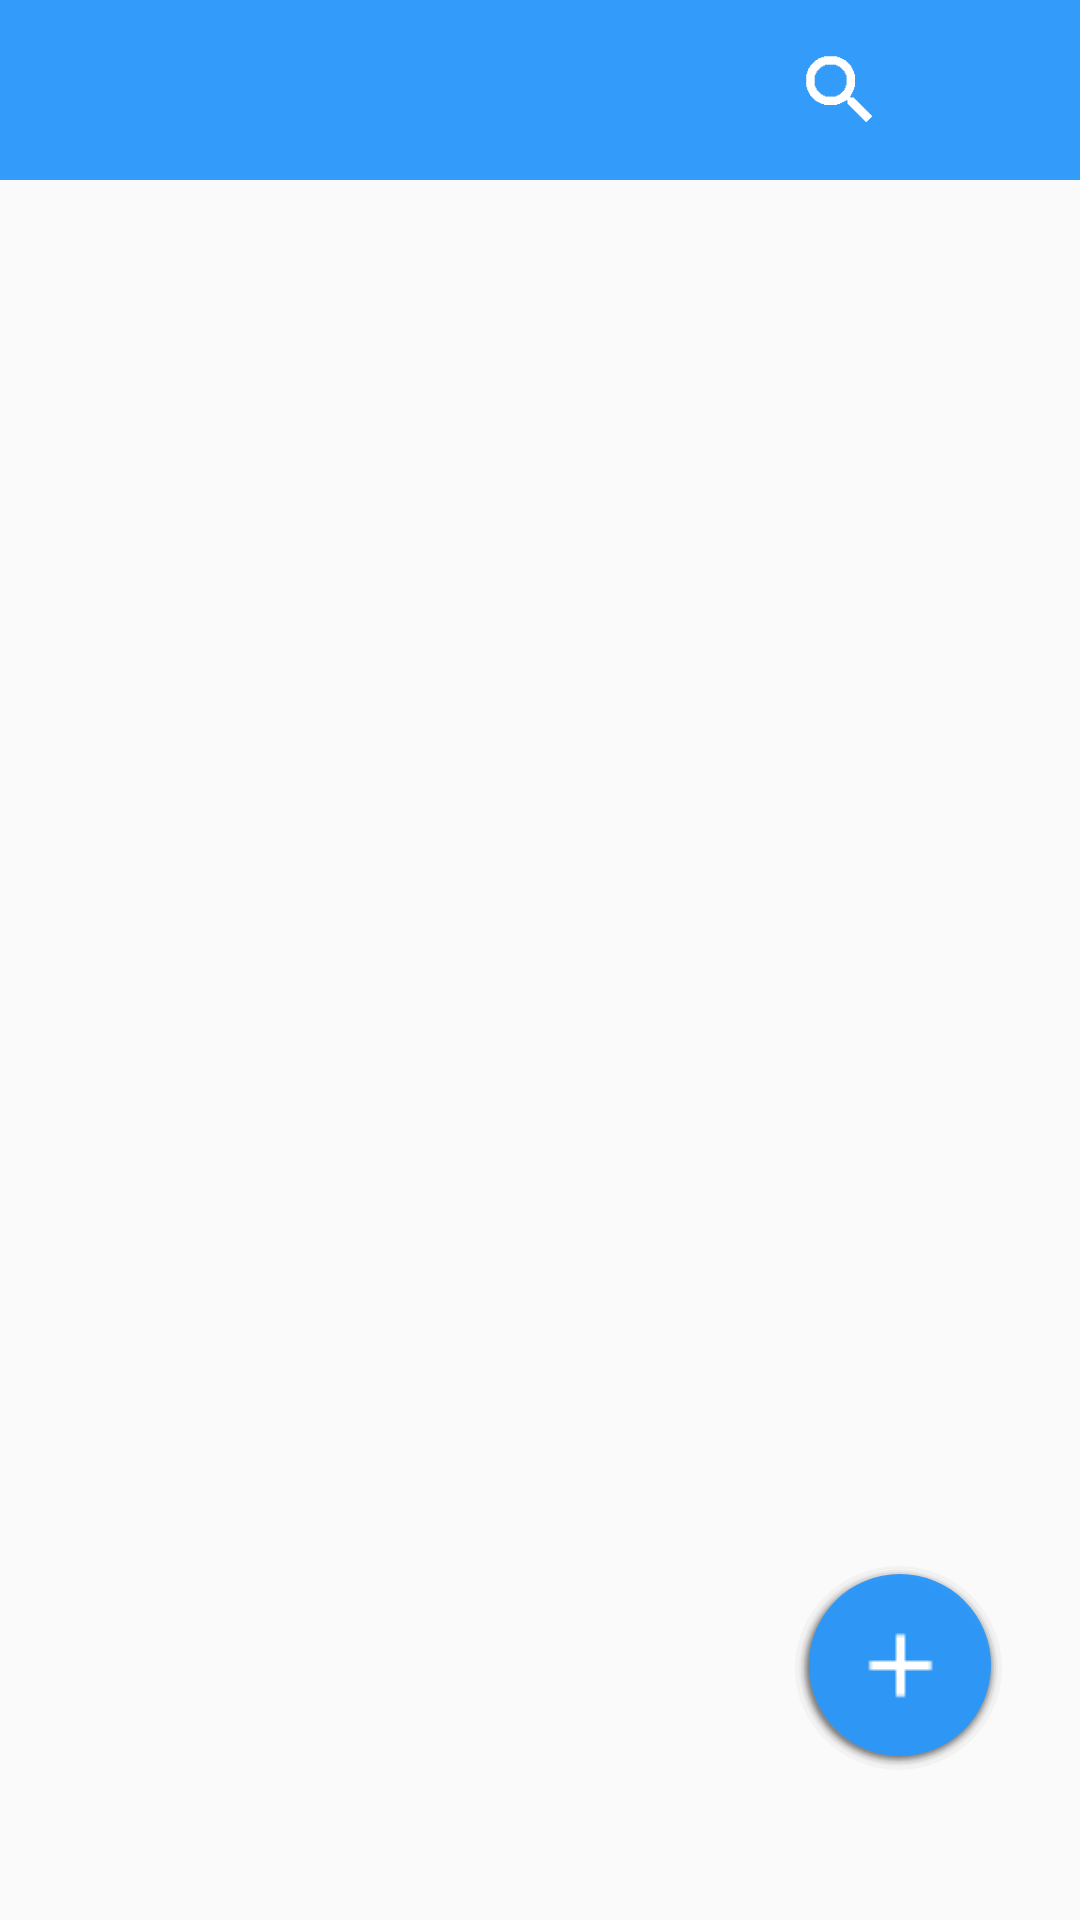

Named icons in this screenshot (1080*1920) and their bounding boxes, [x1, y1, x2, y2]:
add note: [801, 1572, 996, 1764]
search: [806, 56, 872, 122]
